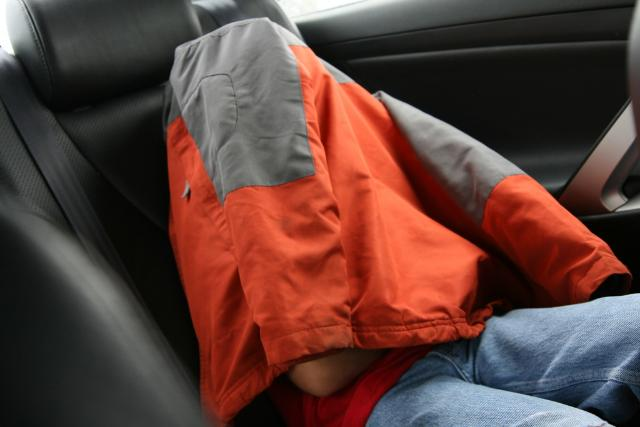Seatbelt: (2, 48, 202, 400)
